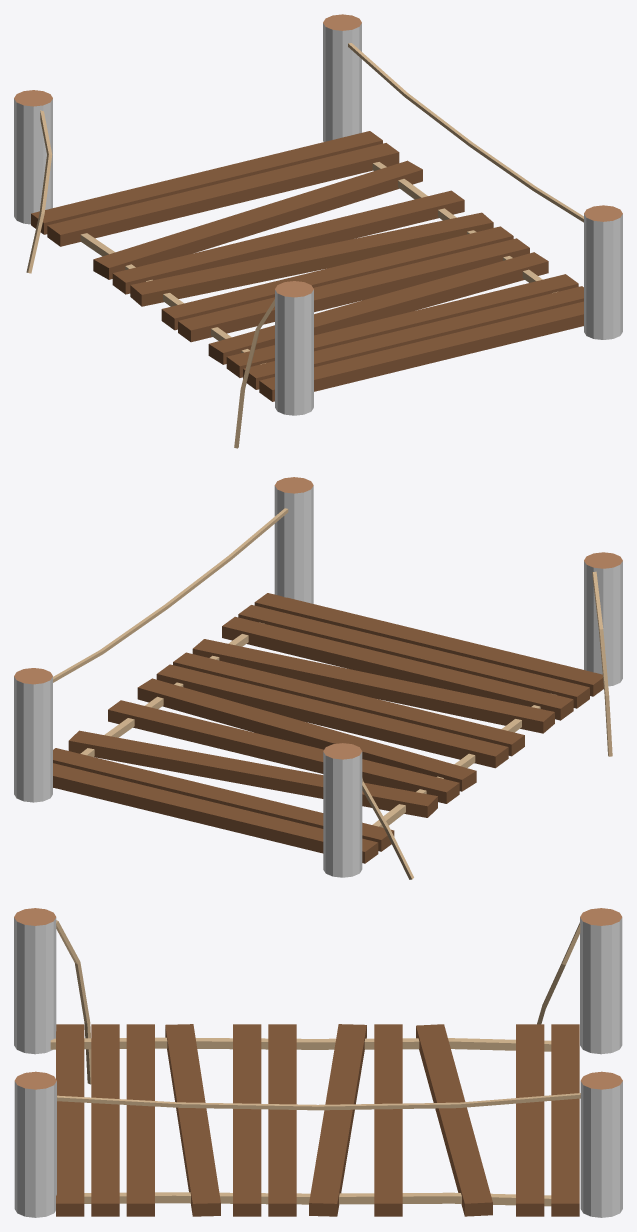
Rendered from bridgeBroken.fbx.
The picture shows the model from 3 angles, top to bottom: view 1: azimuth 30°, elevation 25°; view 2: azimuth 150°, elevation 25°; view 3: azimuth 270°, elevation 25°; orthographic projection. The views are drawn at different scales.
Parts seen in each view (by area): view 1: planks, log4, log3, log2, log1, upperRope.001, upperRopeBroken, lowerRope; view 2: planks, log1, log2, log3, log4, upperRope.001, upperRopeBroken, lowerRope; view 3: planks, log2, log1, log3, log4, lowerRope, upperRope.001, upperRopeBroken.
Boxes of the visible parts, x1,y1,x2,y2 form: planks: (31,131,583,401); log4: (275,281,313,415); log3: (584,205,622,339); log2: (323,14,361,141); log1: (14,90,52,224); upperRope.001: (348,43,583,222); upperRopeBroken: (26,110,274,448); lowerRope: (80,162,557,364); planks: (53,593,603,863); log1: (323,743,362,877); log2: (14,668,52,802); log3: (274,477,313,603); log4: (584,552,622,686); upperRope.001: (53,508,288,682); upperRopeBroken: (362,571,612,879); lowerRope: (53,622,555,827); planks: (56,1024,579,1216); log2: (580,1071,622,1217); log1: (580,908,622,1054); log3: (14,1071,56,1217); log4: (14,908,56,1054); lowerRope: (50,1037,551,1206); upperRope.001: (57,1093,580,1110); upperRopeBroken: (56,920,580,1084).
Bounding box in the file's own units: 323 × 143 × 430.
